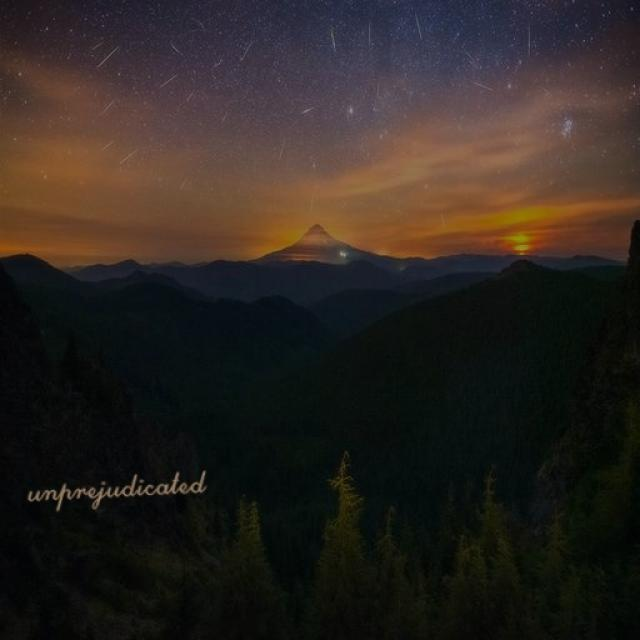watermark: (20, 468, 206, 505)
